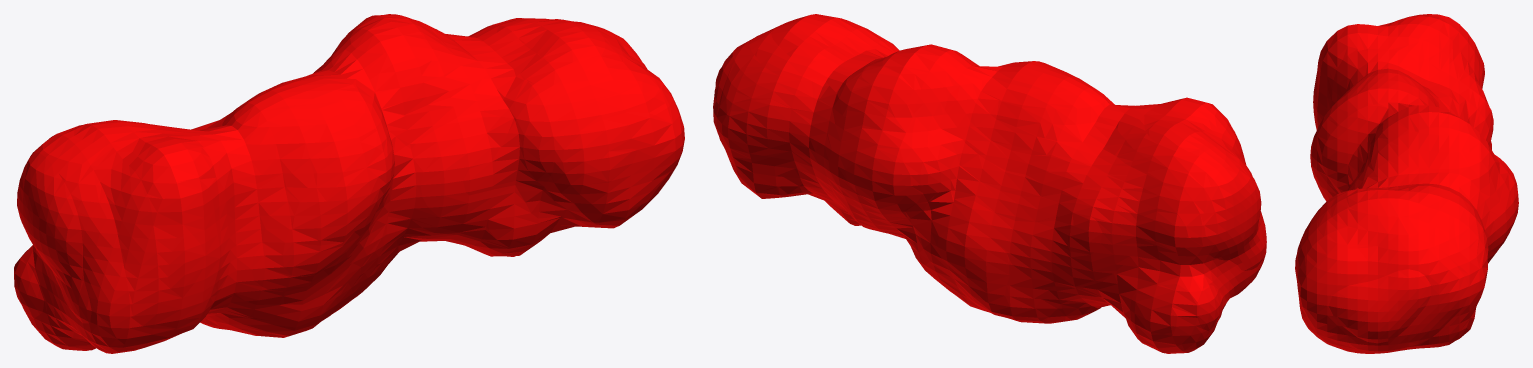
The model's file is Tln1_protein_coarse.dae.
The picture shows the model from 3 angles, left to right: view 1: azimuth 30°, elevation 25°; view 2: azimuth 150°, elevation 25°; view 3: azimuth 270°, elevation 25°; orthographic projection. The views are drawn at different scales.
Parts seen in each view (by area): view 1: Tln1_protein; view 2: Tln1_protein; view 3: Tln1_protein.
Part boxes in pixels (left/top/right/bottom): Tln1_protein: left=14, top=14, right=684, bottom=353; Tln1_protein: left=713, top=14, right=1266, bottom=353; Tln1_protein: left=1295, top=14, right=1518, bottom=353.
Size of the model in its own units: 120 by 51.12 by 46.04.
